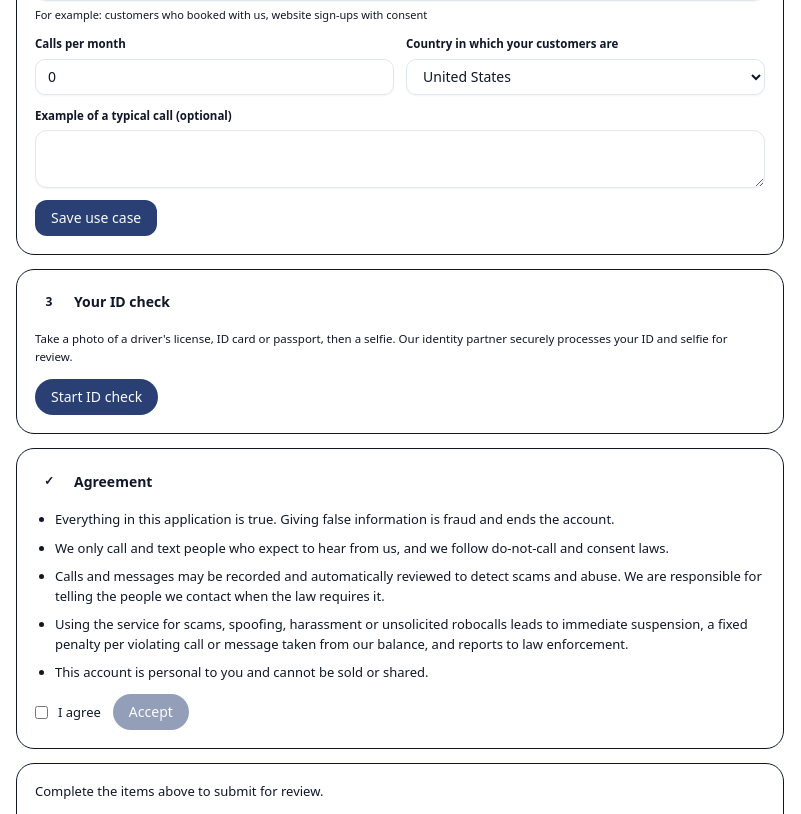
IndividualVerificationPage › starts identity verification from saved details without asking for name or email again
(page scrolled)
Click the button "Start ID check": (97, 398) left=35, top=380, right=158, bottom=416
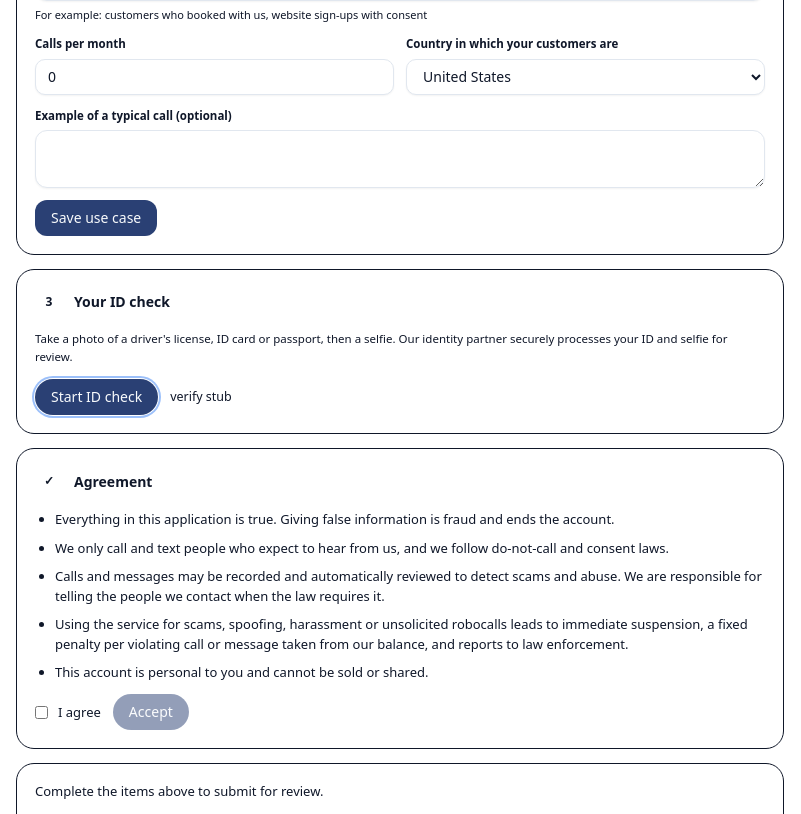
Check: the message reads "verify stub", box left=170, top=388, right=232, bottom=405
